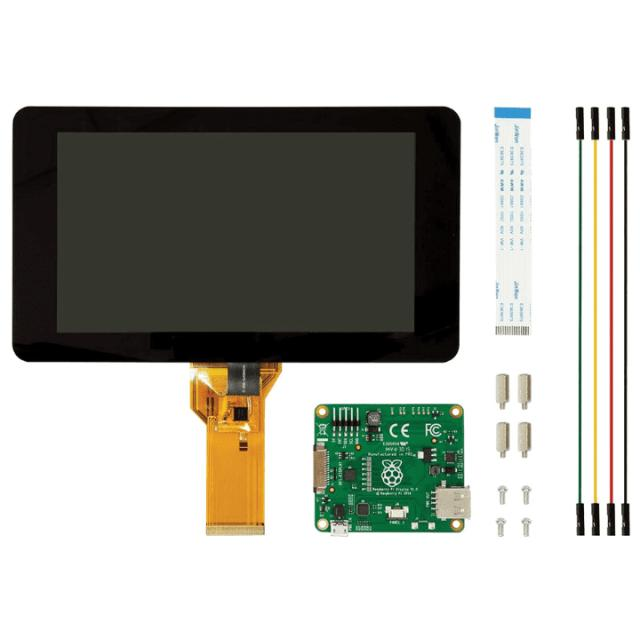Display: (5, 93, 461, 369)
